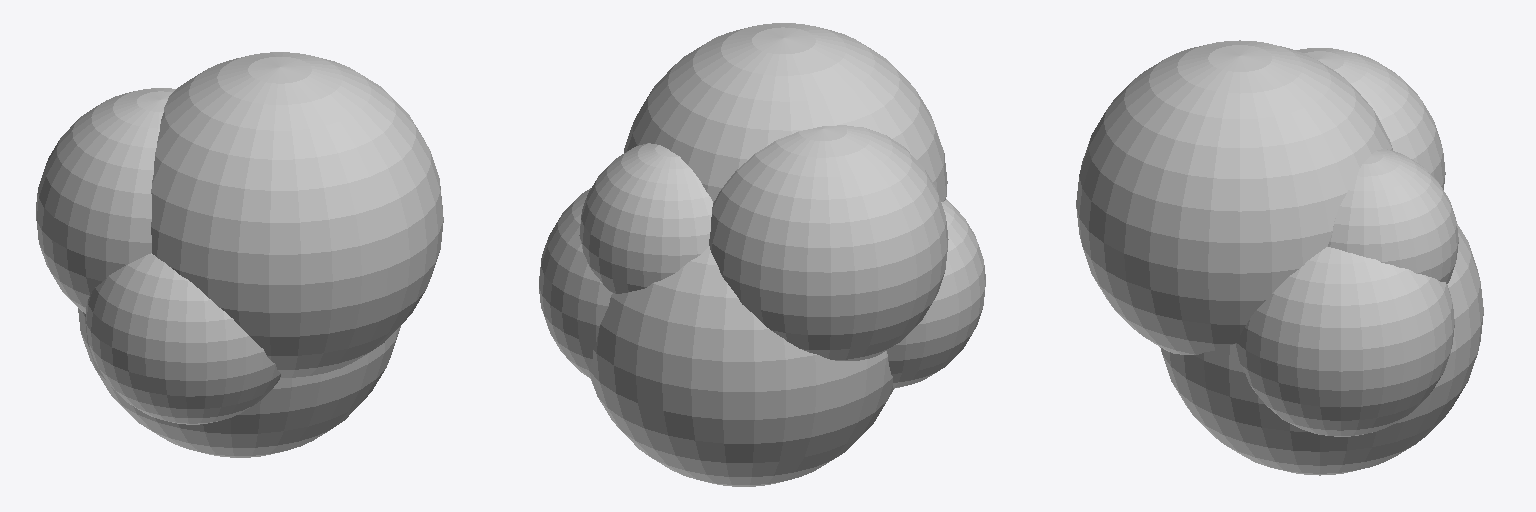
File: Smoke.obj
The picture shows the model from 3 angles: view 1: azimuth 30°, elevation 25°; view 2: azimuth 150°, elevation 25°; view 3: azimuth 270°, elevation 25°; orthographic projection.
Visible parts, largest first — view 1: Sphere; view 2: Sphere; view 3: Sphere.
Boxes of the visible parts, x1,y1,x2,y2 form: Sphere: [36, 52, 443, 457]; Sphere: [539, 23, 985, 486]; Sphere: [1076, 40, 1483, 475].
Bounding box in the file's own units: 2.59 × 2.72 × 2.49.